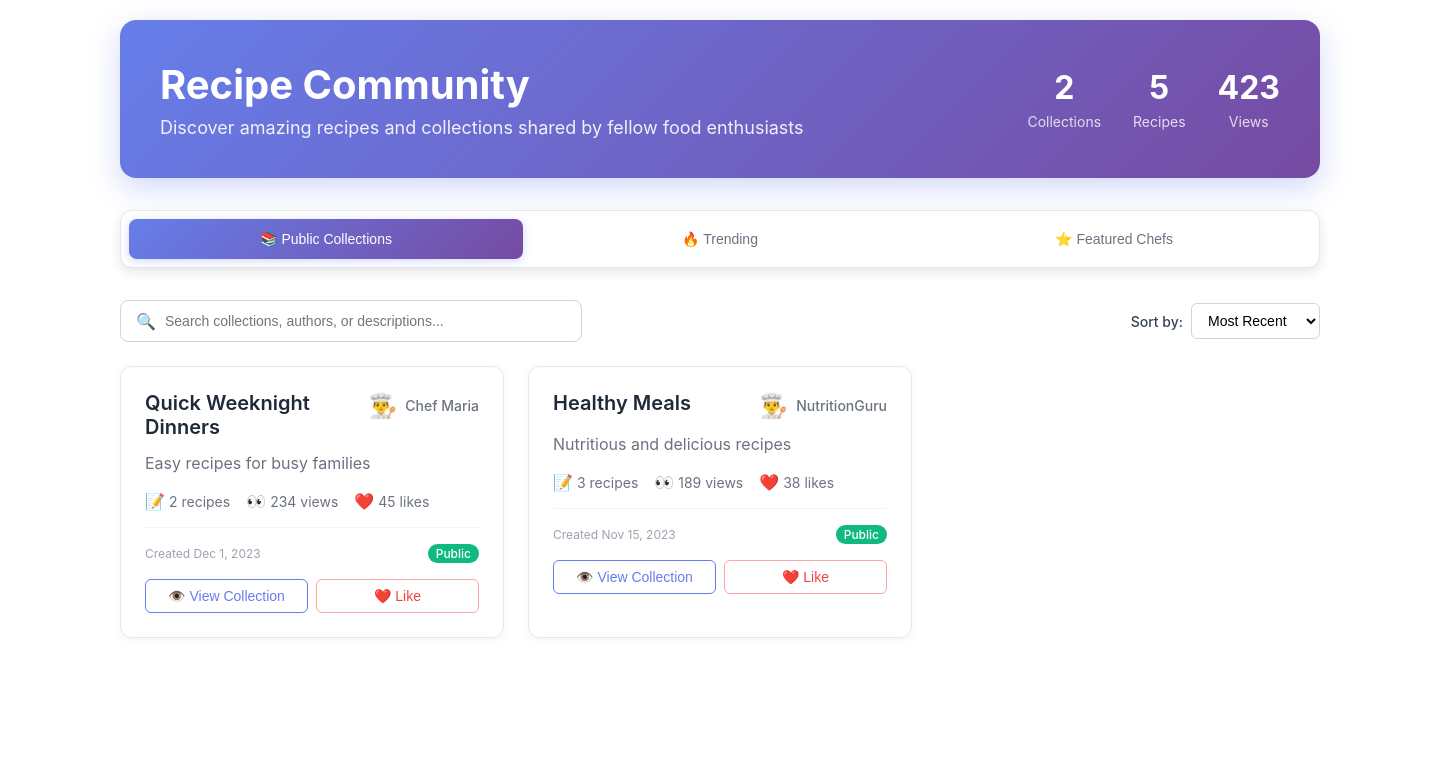
Test: Community Component › Trending Tab › should display trending content when tab is clicked
Click the button "🔥 Trending" at (720, 239), box [523,219,917,259]
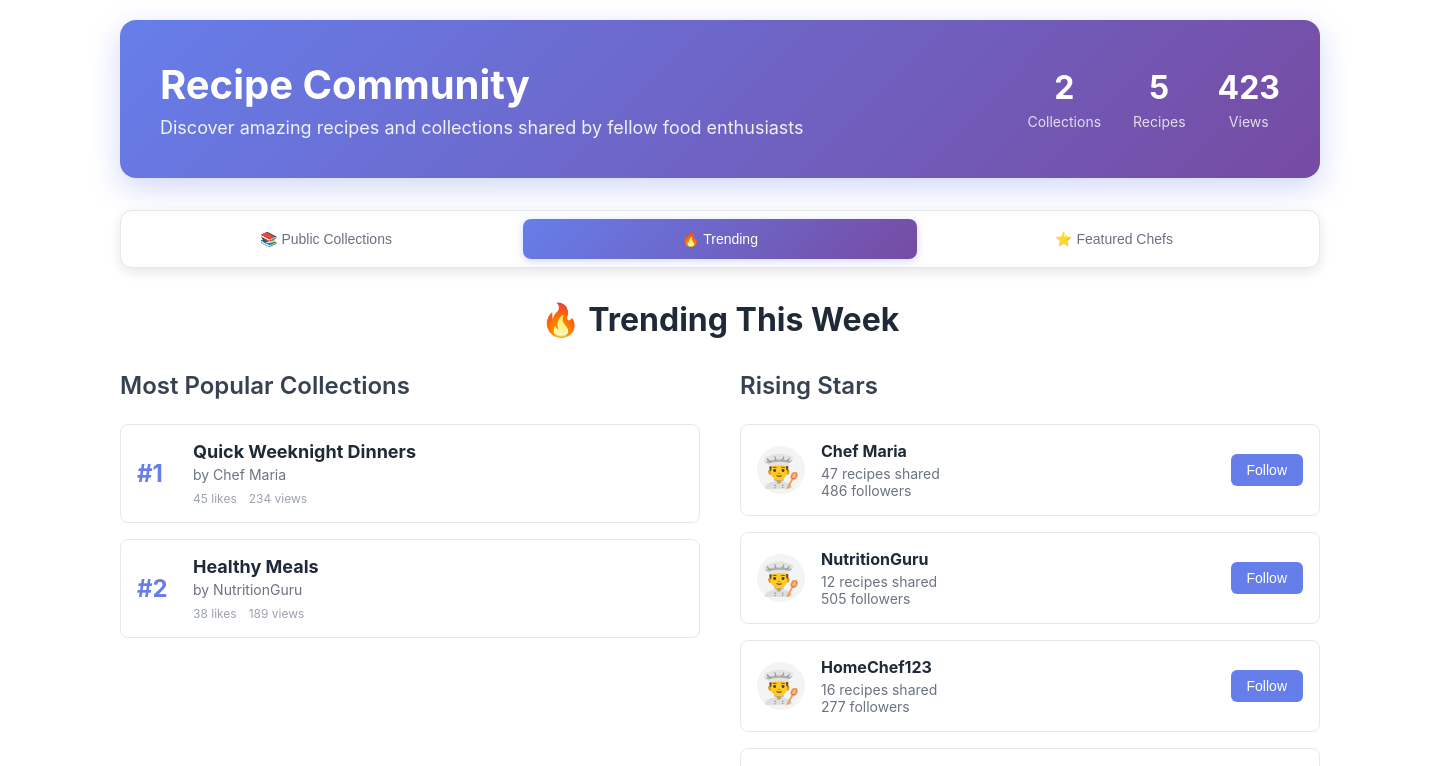
Expected: the heading "🔥 Trending This Week" is shown, [541,300,899,339]
Expected: the heading "Most Popular Collections" is shown, [120,371,410,400]
Expected: the heading "Rising Stars" is shown, [740,371,878,400]
